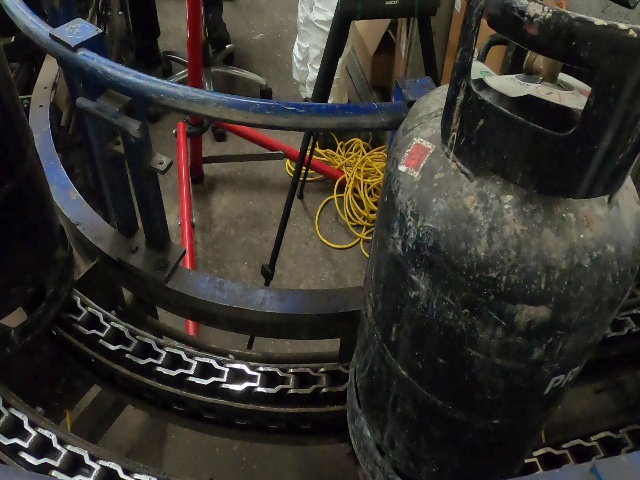gas_bottle: (7, 4, 640, 480)
